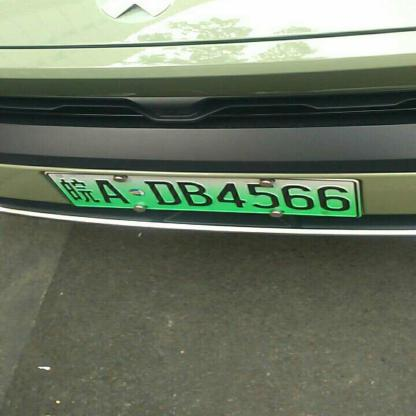lp: (46, 172, 74, 216)
